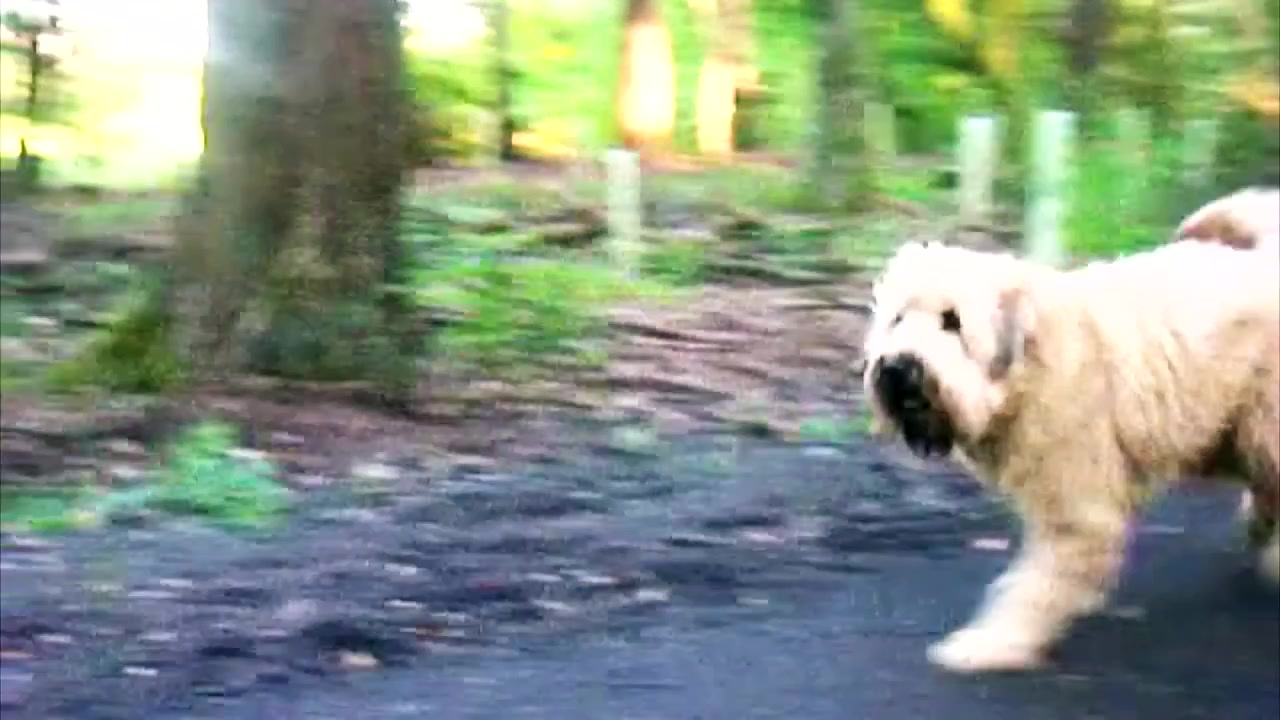dog: (866, 195, 1280, 673)
